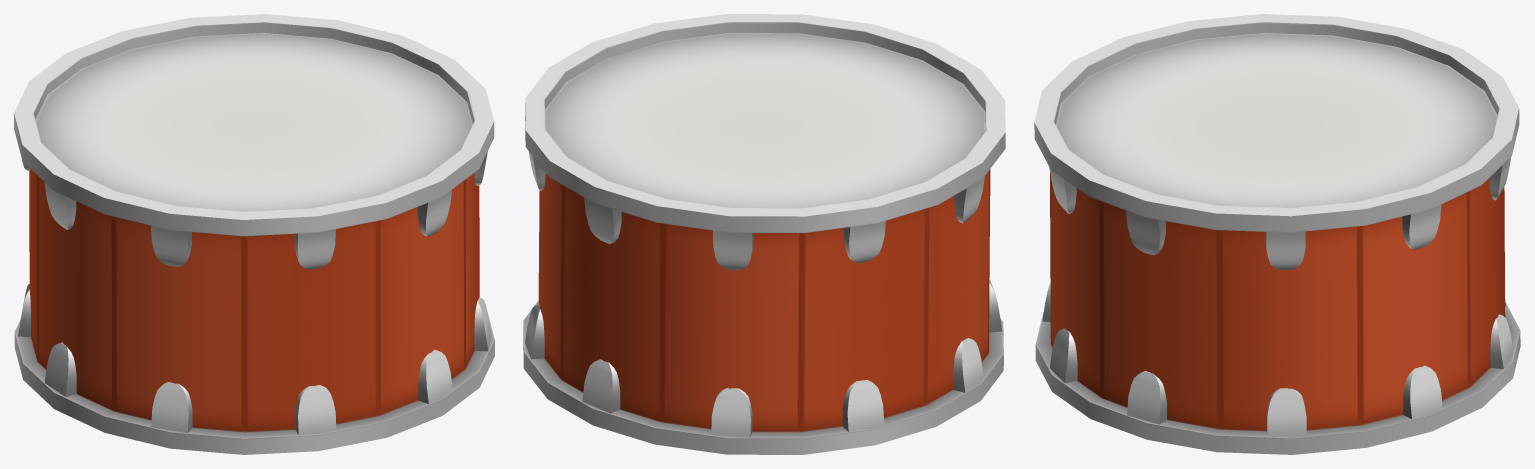
Rendered from drum.FBX.
3 views of the same model, side by side, from view 1: azimuth 30°, elevation 25°; view 2: azimuth 150°, elevation 25°; view 3: azimuth 270°, elevation 25° (orthographic).
Visible parts, largest first — view 1: drum; view 2: drum; view 3: drum.
Boxes of the visible parts, left/top/right/bottom form: drum: left=14, top=14, right=494, bottom=454; drum: left=523, top=14, right=1005, bottom=454; drum: left=1034, top=14, right=1520, bottom=454.
Bounding box in the file's own units: 41.25 × 22.6 × 41.23.
